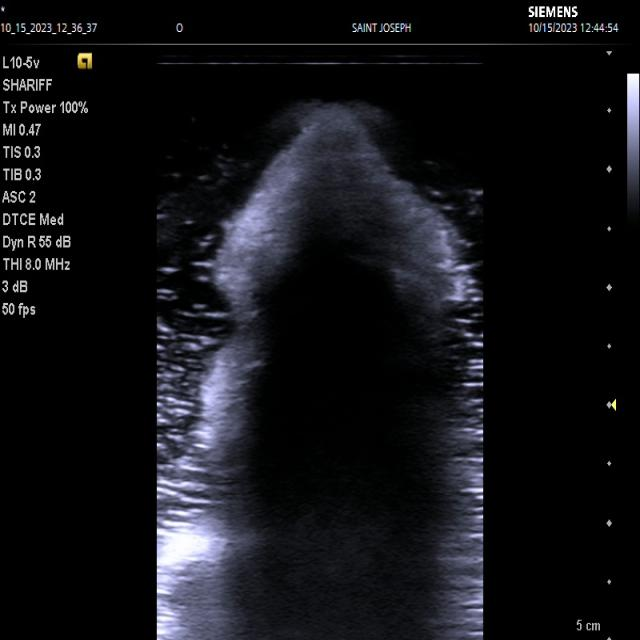tissue: (158, 106, 482, 640)
